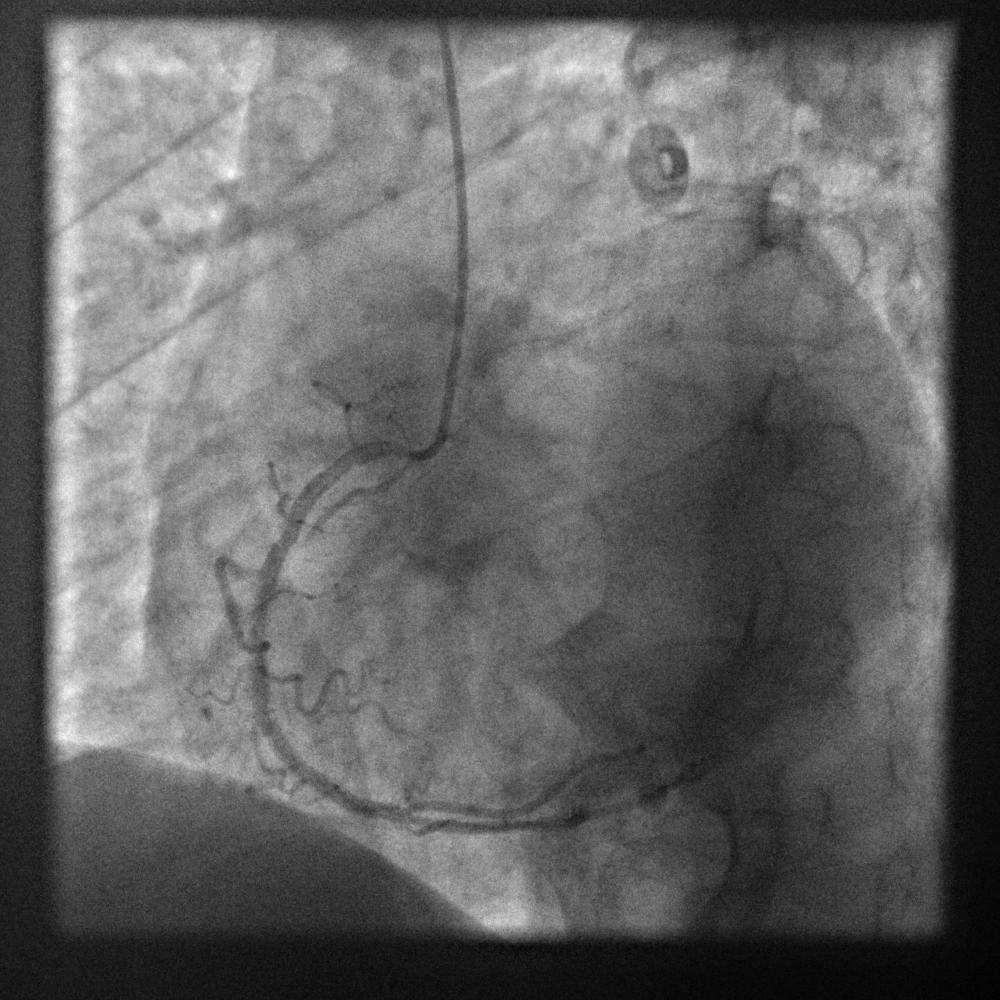Stenosis: (265, 510, 302, 560)
